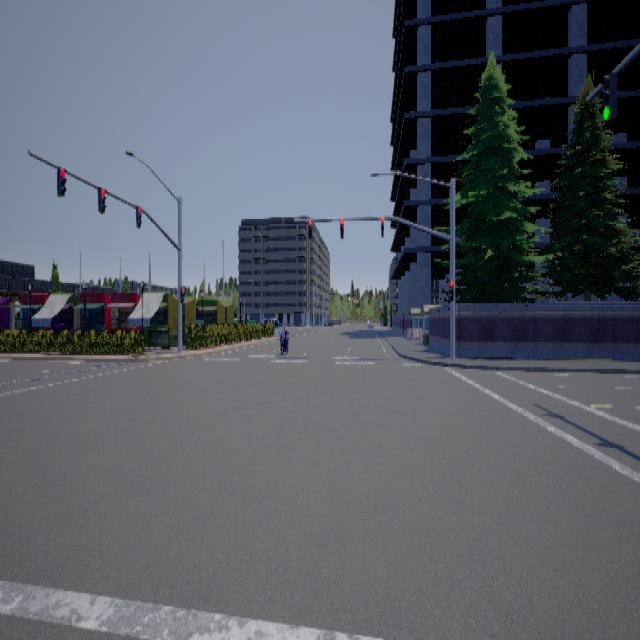green_light: (599, 71, 616, 121)
motobike: (277, 324, 290, 356)
red_light: (56, 165, 66, 195), (97, 185, 106, 212), (135, 204, 141, 227), (448, 280, 453, 300), (179, 284, 184, 302), (339, 218, 343, 238), (307, 219, 311, 237), (380, 216, 383, 236)
